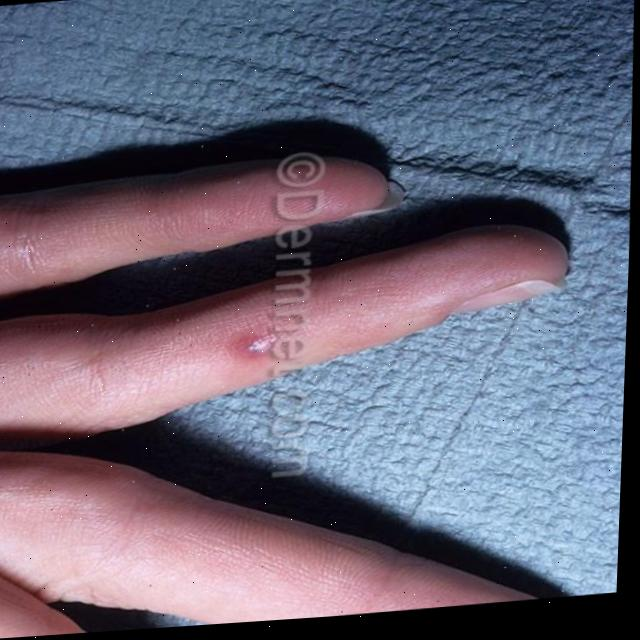Shingles: (226, 318, 291, 365)
